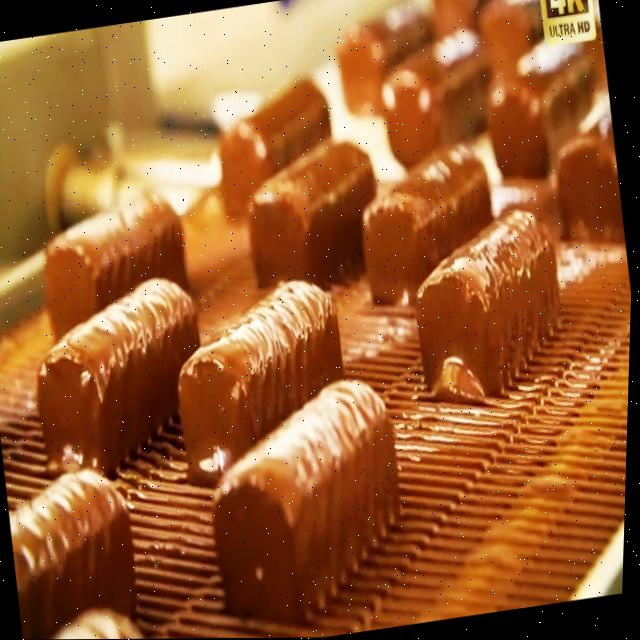Choco: (194, 367, 423, 631), (161, 268, 362, 486), (21, 267, 220, 484), (398, 198, 579, 413), (349, 134, 506, 308), (4, 457, 150, 640), (235, 129, 391, 293), (33, 184, 198, 337), (369, 24, 508, 176), (205, 67, 344, 218), (477, 47, 606, 195), (329, 0, 447, 117), (545, 123, 631, 264)
